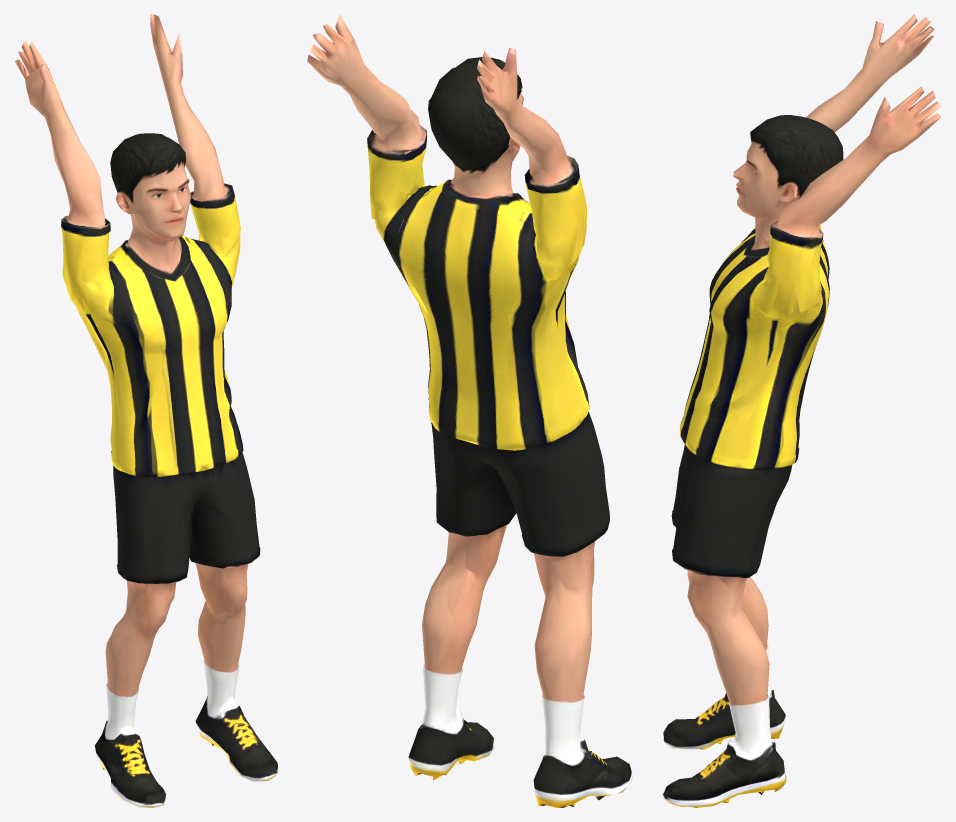
File: fan_teen_stand.glb
3 views of the same model, side by side, from view 1: azimuth 30°, elevation 25°; view 2: azimuth 150°, elevation 25°; view 3: azimuth 270°, elevation 25° (orthographic). The views are drawn at different scales.
Visible parts, largest first — view 1: char1; view 2: char1; view 3: char1.
Boxes of the visible parts, x1,y1,x2,y2 form: char1: (14,14,278,807); char1: (307,14,632,807); char1: (661,14,941,807).
Bounding box in the file's own units: 0.4821 × 1.85 × 0.6479.
1 material, 1 textured.
